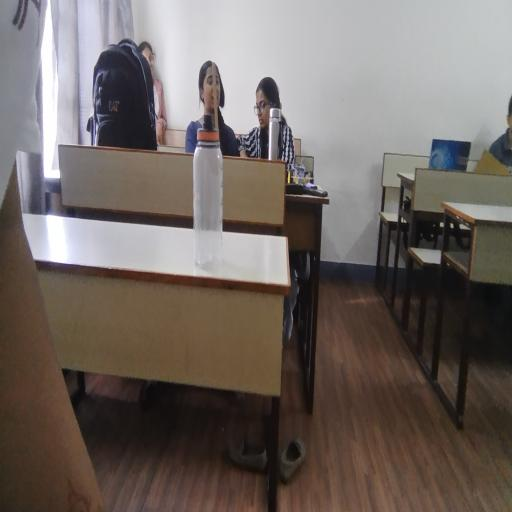Bottle: (189, 111, 233, 264)
